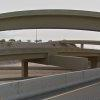Bridge: (4, 5, 97, 45)
